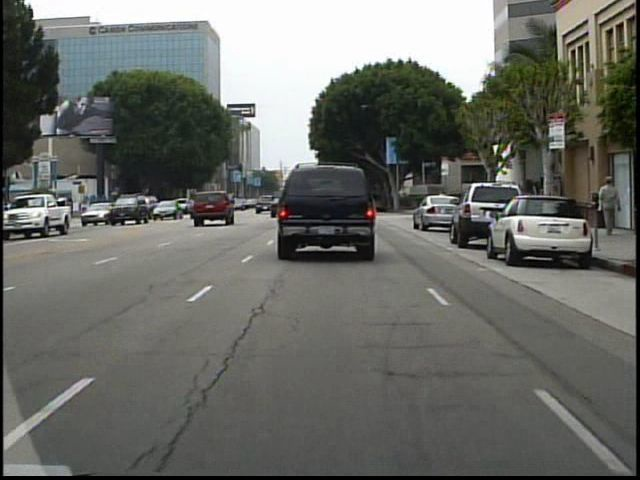person: (594, 173, 620, 238), (478, 177, 498, 221), (434, 186, 451, 222), (33, 199, 49, 226)
